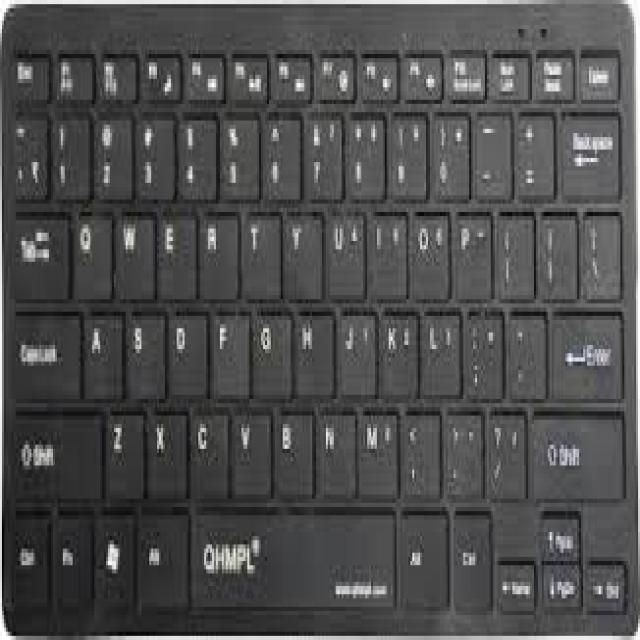others: (2, 4, 636, 628)
